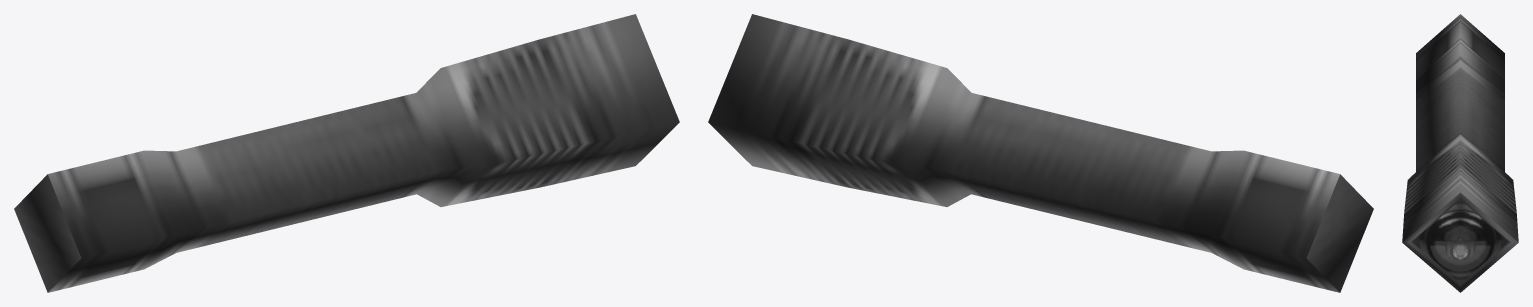
The model's file is flashlight.fbx.
3 views of the same model, side by side, from view 1: azimuth 30°, elevation 25°; view 2: azimuth 150°, elevation 25°; view 3: azimuth 270°, elevation 25° (orthographic). The views are drawn at different scales.
Visible parts, largest first — view 1: flashlight; view 2: flashlight; view 3: flashlight.
Part boxes in pixels (x1,y1,x2,y2): flashlight: (14,14,679,292); flashlight: (708,14,1373,292); flashlight: (1402,14,1518,292).
Size of the model in its own units: 20.02 by 4.95 by 5.2.
1 material, 1 textured.
